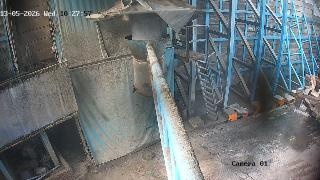cement_mixer_truck: (299, 60, 320, 128)
swing_chute: (125, 34, 172, 100)
